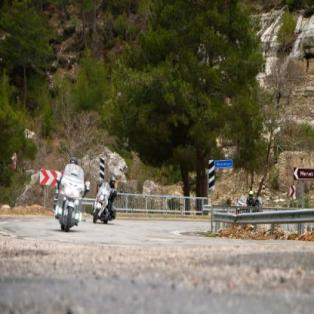Motocicleta: (51, 164, 85, 228)
